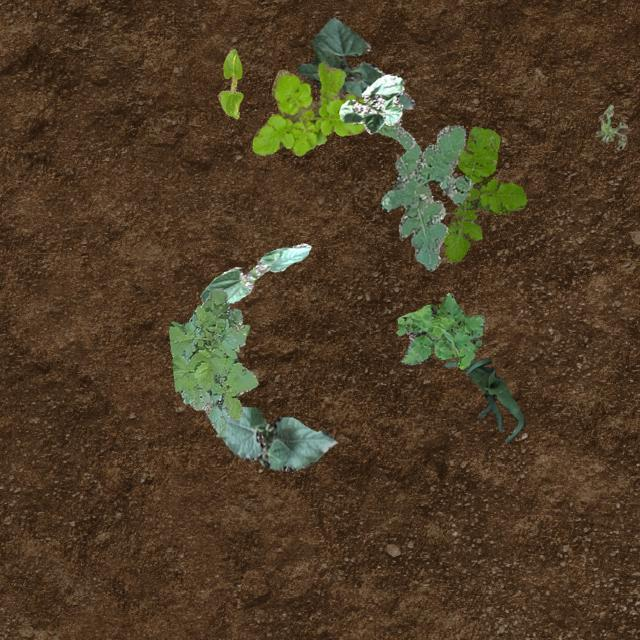crop: (296, 17, 414, 108), (220, 406, 336, 470), (198, 242, 310, 304), (444, 358, 524, 442), (338, 72, 404, 132), (216, 49, 242, 118)
weed: (376, 116, 472, 270), (168, 288, 256, 436), (442, 125, 526, 264), (252, 62, 364, 154), (394, 292, 484, 368), (594, 104, 626, 150)
